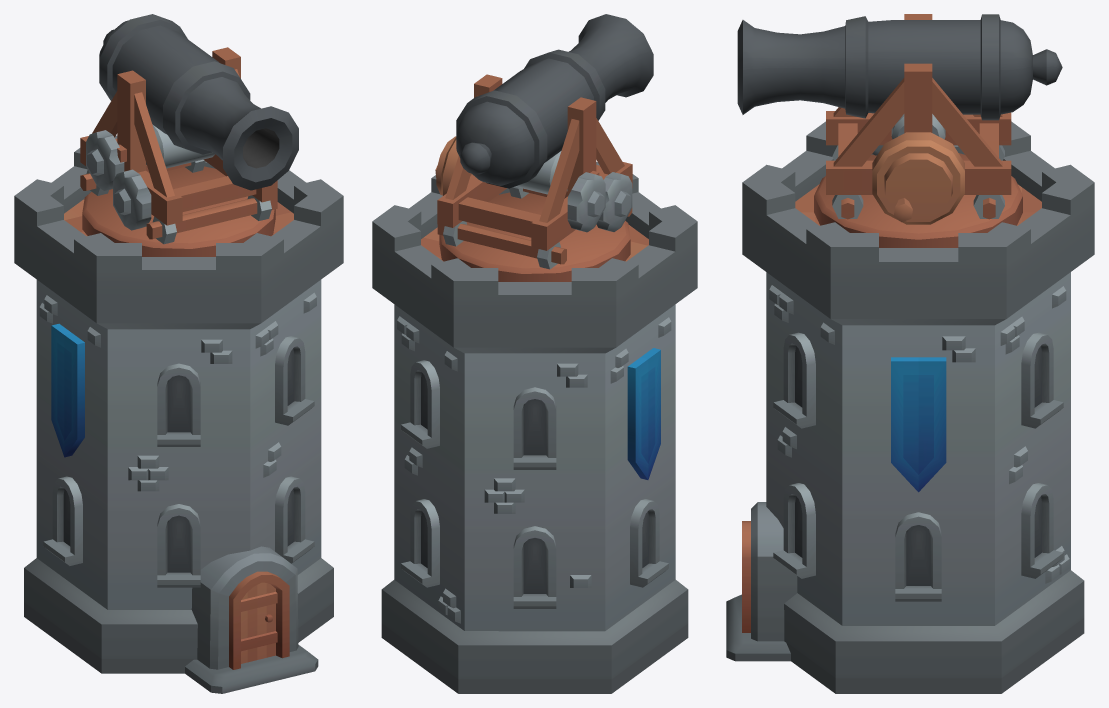
File: building_tower_cannon_blue.glb
3 views of the same model, side by side, from view 1: azimuth 30°, elevation 25°; view 2: azimuth 150°, elevation 25°; view 3: azimuth 270°, elevation 25° (orthographic). The views are drawn at different scales.
Parts seen in each view (by area): view 1: building_tower_cannon_blue, cannon_turret_blue, cannon_blue; view 2: building_tower_cannon_blue, cannon_turret_blue, cannon_blue; view 3: building_tower_cannon_blue, cannon_turret_blue, cannon_blue.
Boxes of the visible parts, box(x1,y1,x2,y2) form: building_tower_cannon_blue: box(14, 135, 343, 693); cannon_turret_blue: box(80, 47, 277, 256); cannon_blue: box(99, 14, 298, 190); building_tower_cannon_blue: box(372, 162, 697, 693); cannon_turret_blue: box(435, 74, 632, 281); cannon_blue: box(456, 14, 653, 188); building_tower_cannon_blue: box(726, 121, 1094, 693); cannon_turret_blue: box(814, 14, 1022, 247); cannon_blue: box(737, 14, 1062, 120).
Size of the model in its own units: 0.9297 by 2.04 by 1.11.
Materials: 1 (1 with a texture image).
